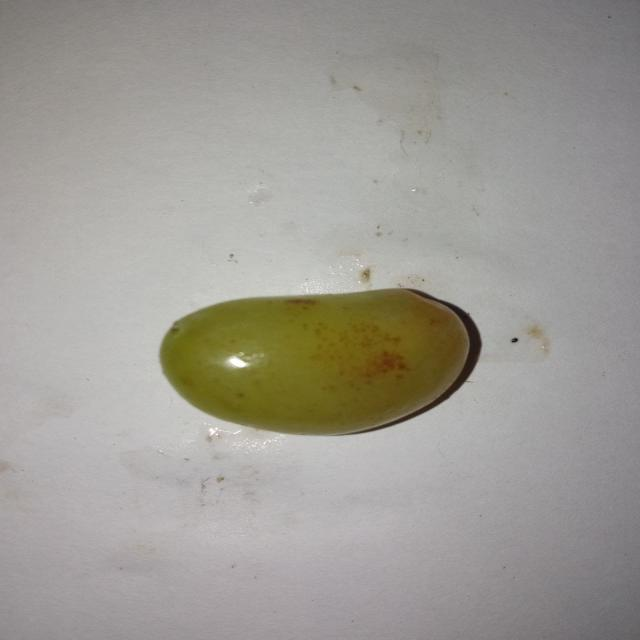fresh_grape: (168, 295, 455, 431)
